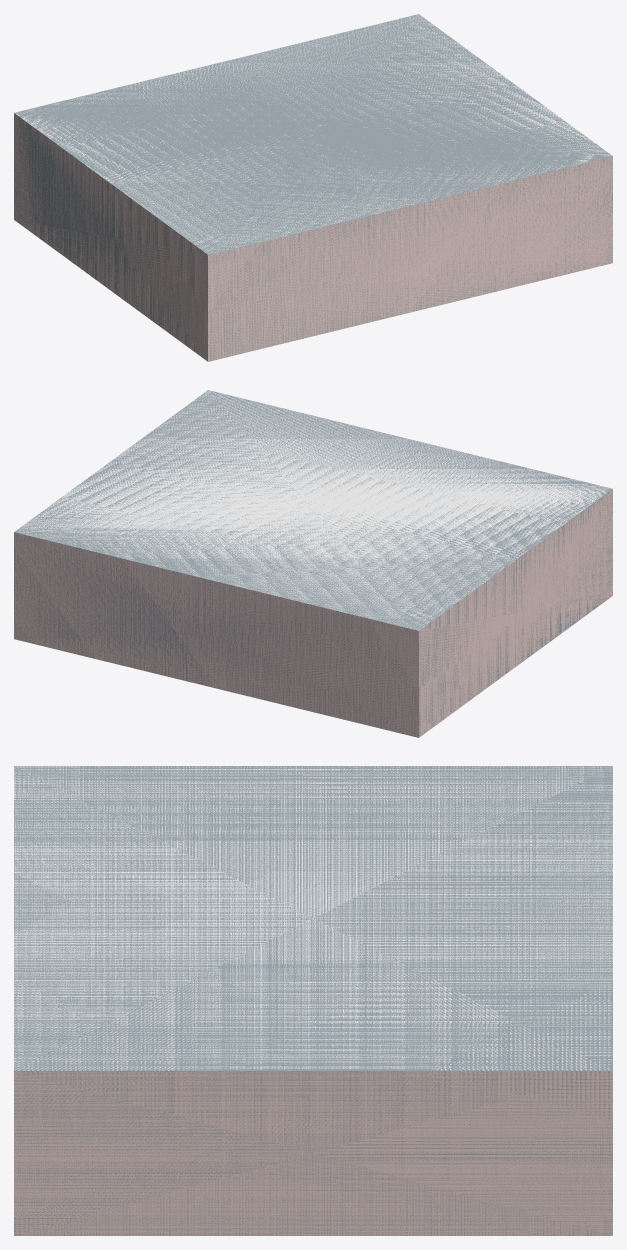
The model's file is baseBuilding.fbx.
3 renders of one model, top to bottom at view 1: azimuth 30°, elevation 25°; view 2: azimuth 150°, elevation 25°; view 3: azimuth 270°, elevation 25°, orthographic. The views are drawn at different scales.
Parts seen in each view (by area): view 1: Model; view 2: Model; view 3: Model.
Boxes of the visible parts, x1,y1,x2,y2 form: Model: [14, 14, 612, 361]; Model: [14, 390, 612, 737]; Model: [14, 766, 612, 1235].
Size of the model in its own units: 116 by 29.38 by 96.56.
